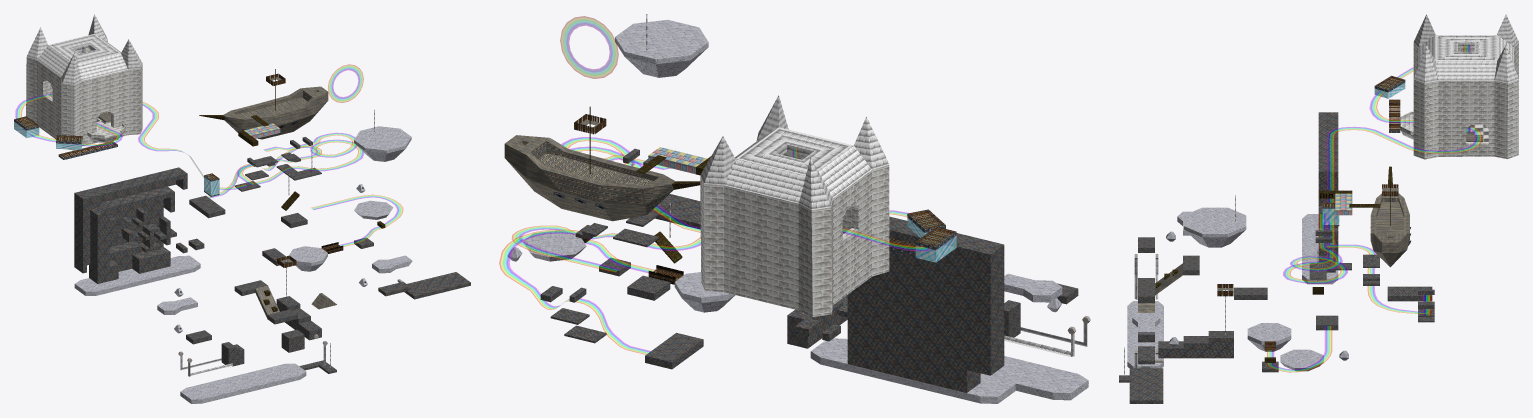
Rendered from rainbow_cruise_all.obj.
The picture shows the model from 3 angles, left to right: view 1: azimuth 30°, elevation 25°; view 2: azimuth 150°, elevation 25°; view 3: azimuth 270°, elevation 25°; orthographic projection. The views are drawn at different scales.
Visible parts, largest first — view 1: r0; view 2: r0; view 3: r0.
Part boxes in pixels (left/top/right/bottom): r0: left=14, top=14, right=470, bottom=403; r0: left=499, top=14, right=1090, bottom=403; r0: left=1119, top=14, right=1518, bottom=403.
Size of the model in its own units: 15.38 by 11.73 by 14.27.
